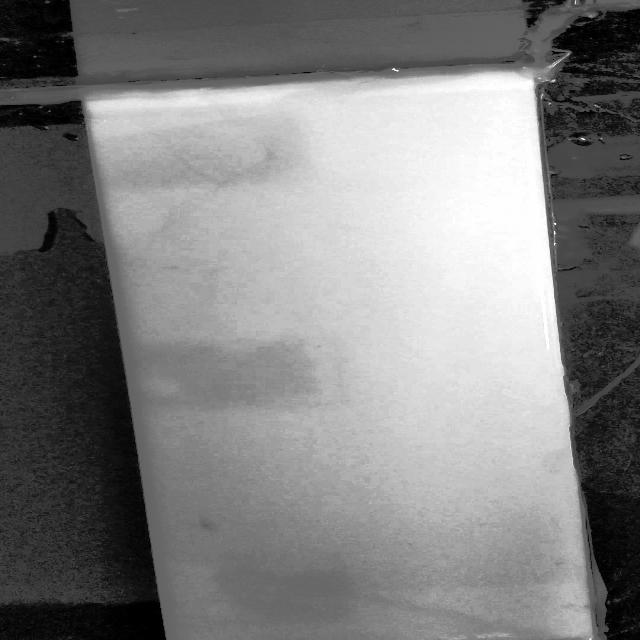shrimp: (194, 511, 220, 531)
